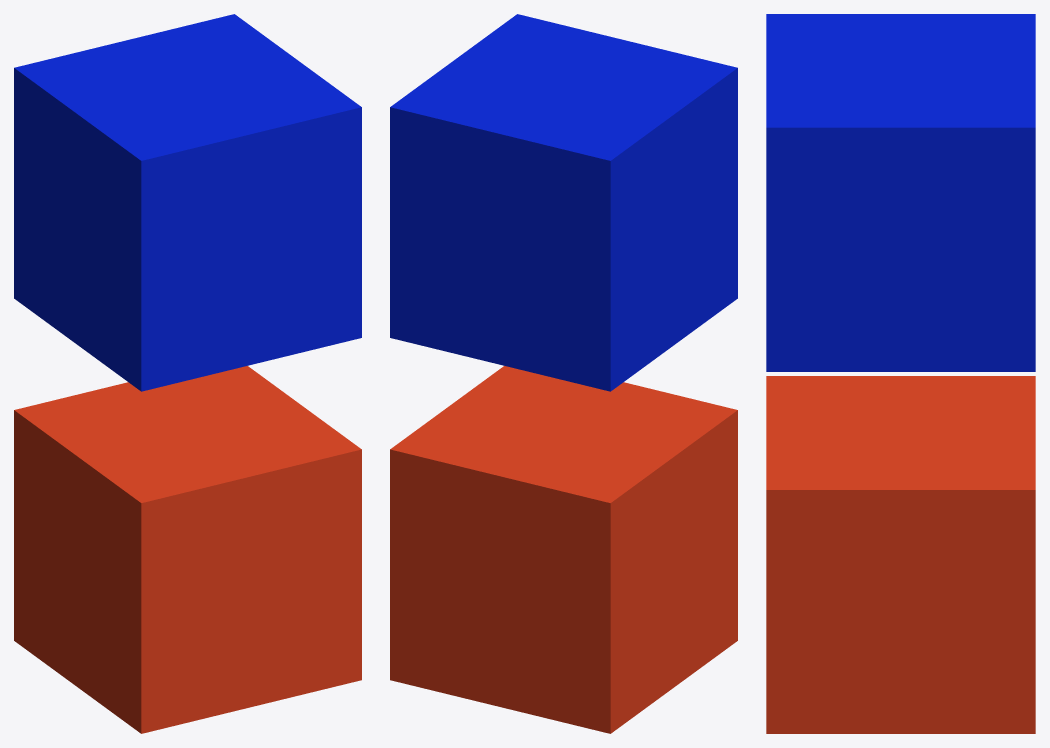
Rendered from cubes.glb.
The picture shows the model from 3 angles, left to right: view 1: azimuth 30°, elevation 25°; view 2: azimuth 150°, elevation 25°; view 3: azimuth 270°, elevation 25°; orthographic projection. The views are drawn at different scales.
Parts seen in each view (by area): view 1: CUBE2, CUBE1; view 2: CUBE2, CUBE1; view 3: CUBE1, CUBE2.
Part boxes in pixels (x1=…): CUBE2: x1=14, y1=14, x2=361, y2=391; CUBE1: x1=14, y1=366, x2=361, y2=733; CUBE2: x1=390, y1=14, x2=737, y2=391; CUBE1: x1=390, y1=366, x2=737, y2=733; CUBE1: x1=766, y1=376, x2=1035, y2=733; CUBE2: x1=766, y1=14, x2=1035, y2=371.
Size of the model in its own units: 2 by 4.97 by 2.
